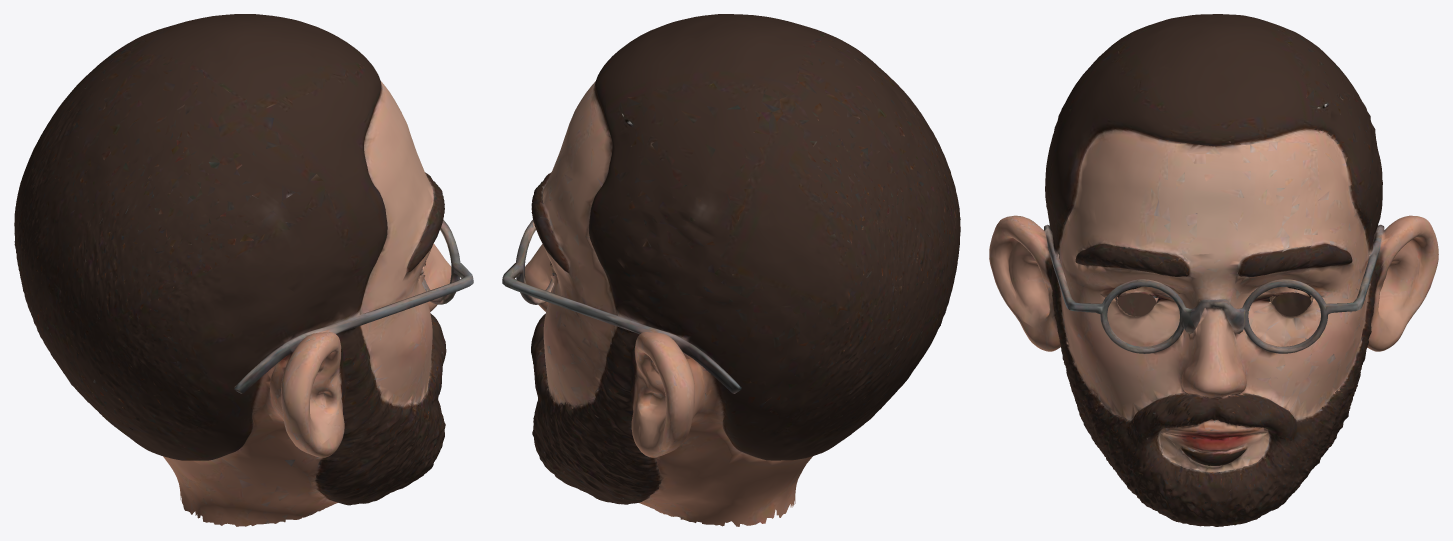
Rendered from head.glb.
3 renders of one model, left to right at view 1: azimuth 30°, elevation 25°; view 2: azimuth 150°, elevation 25°; view 3: azimuth 270°, elevation 25°, orthographic. The views are drawn at different scales.
Visible parts, largest first — view 1: world; view 2: world; view 3: world.
Part boxes in pixels (box(x1,y1,x2,y2)): world: box(14, 14, 473, 526); world: box(502, 14, 960, 526); world: box(989, 14, 1438, 526).
Bounding box in the file's own units: 0.3878 × 0.43 × 0.4118.
2 materials, 1 textured.
